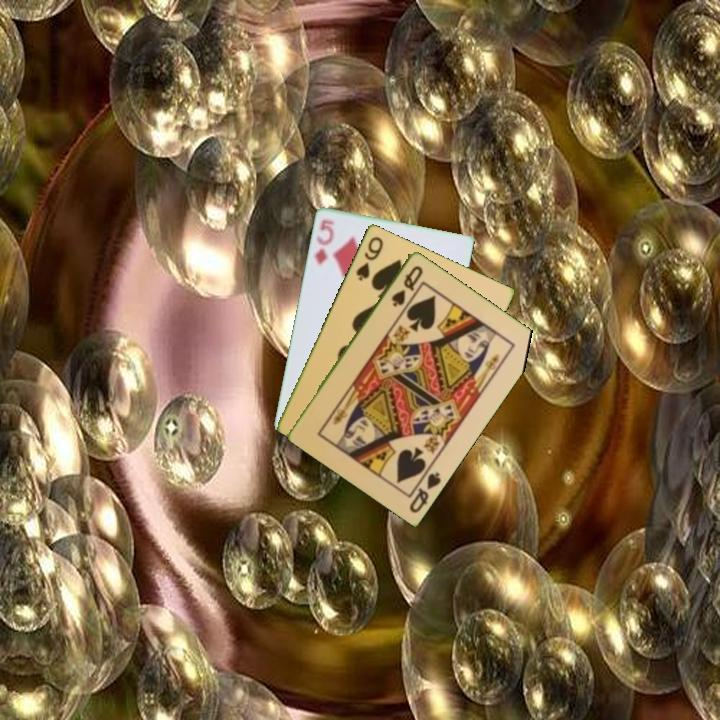5d: (311, 216, 338, 268)
9s: (352, 233, 386, 283)
Qs: (405, 463, 444, 516), (388, 262, 426, 310)
